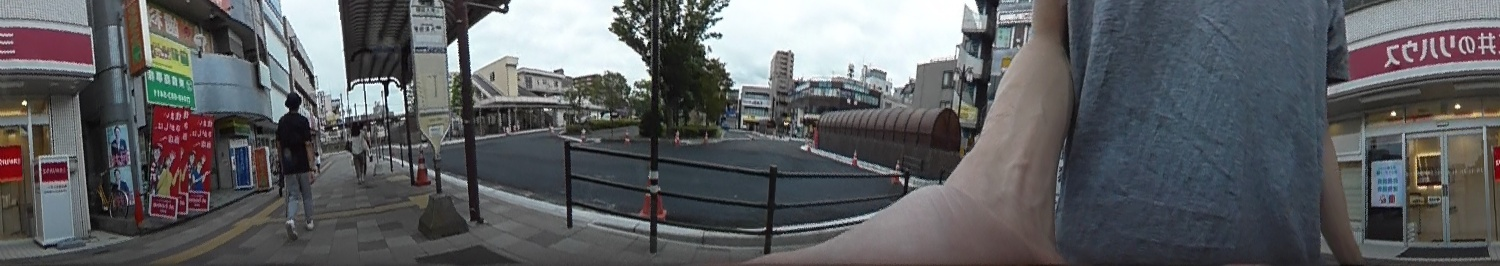person: (276, 88, 320, 241), (344, 121, 370, 185)
